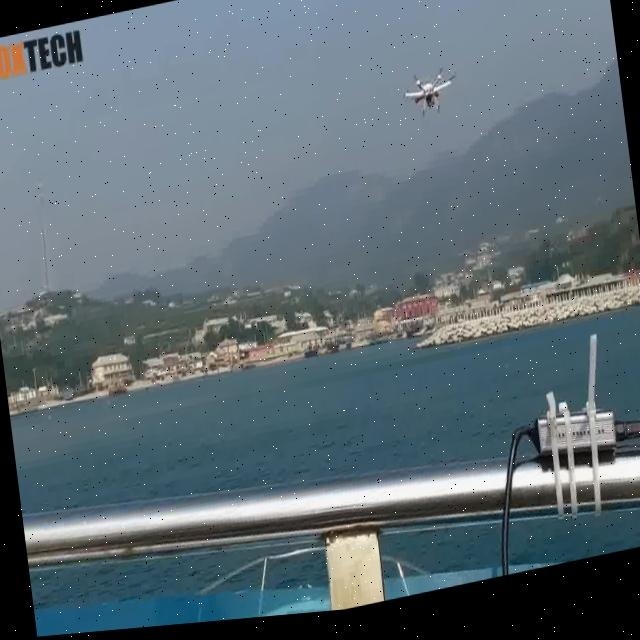drone: (394, 68, 464, 135)
